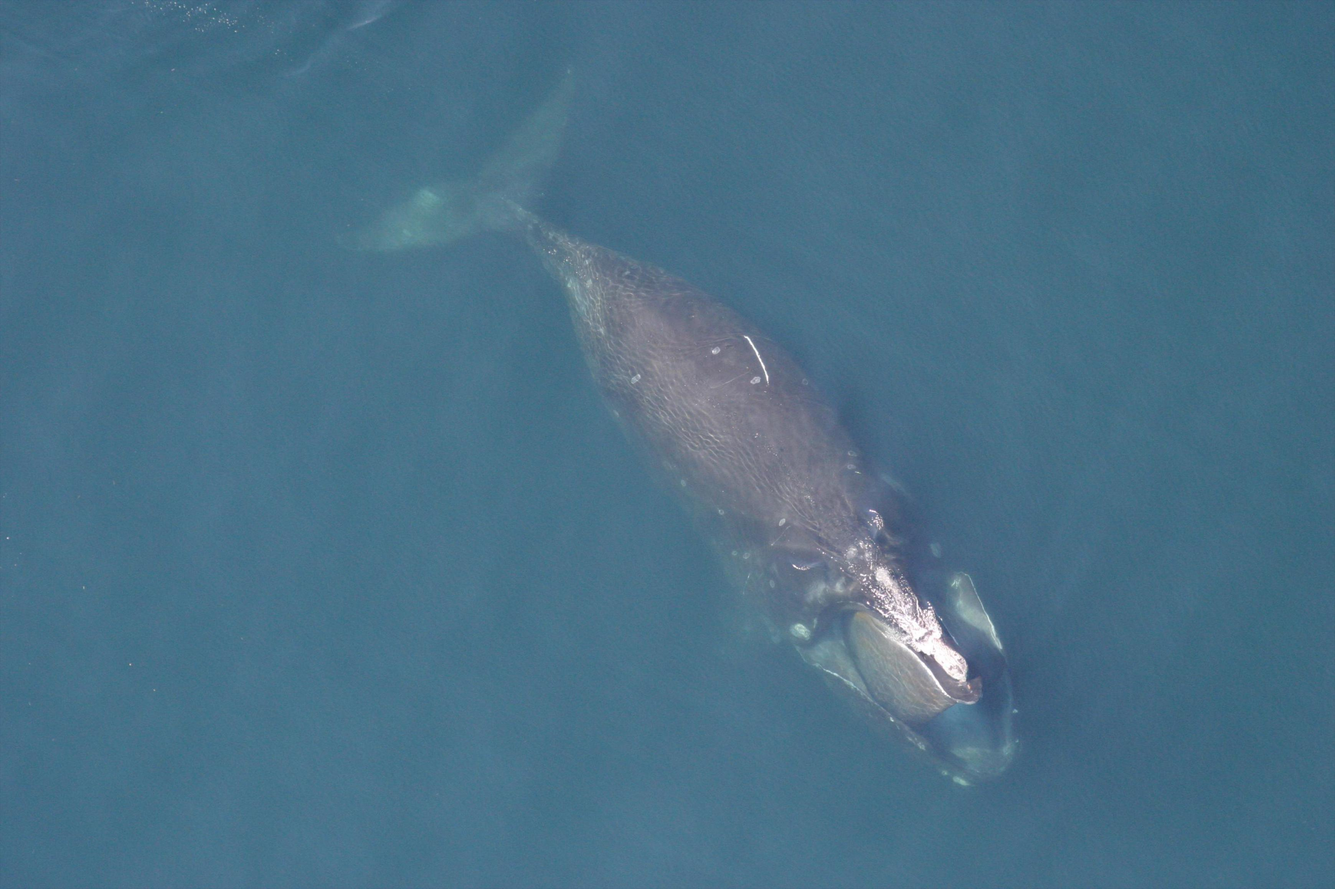whale: (323, 40, 1031, 799)
